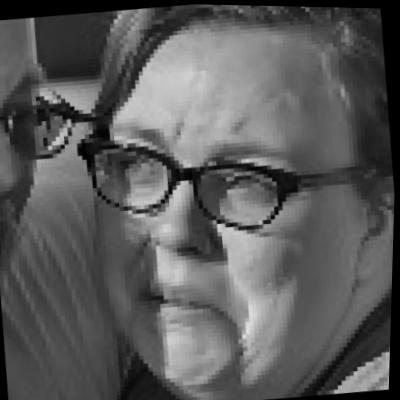sad: (81, 21, 368, 393)
